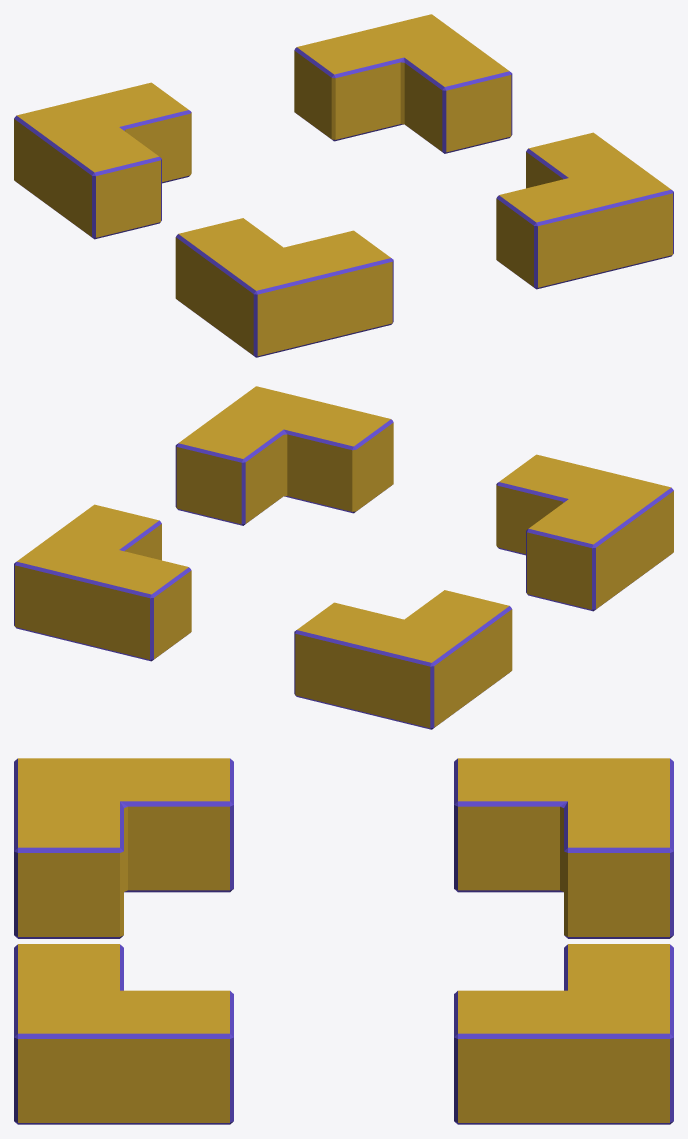
Rendered from chessTileSelector.fbx.
The picture shows the model from 3 angles, top to bottom: view 1: azimuth 30°, elevation 25°; view 2: azimuth 150°, elevation 25°; view 3: azimuth 270°, elevation 25°; orthographic projection. The views are drawn at different scales.
Parts seen in each view (by area): view 1: Cube; view 2: Cube; view 3: Cube.
Part boxes in pixels (x1,y1,x2,y2): Cube: (14, 14, 673, 357); Cube: (14, 386, 673, 729); Cube: (14, 758, 673, 1124).
Size of the model in its own units: 200 by 30.43 by 200.
